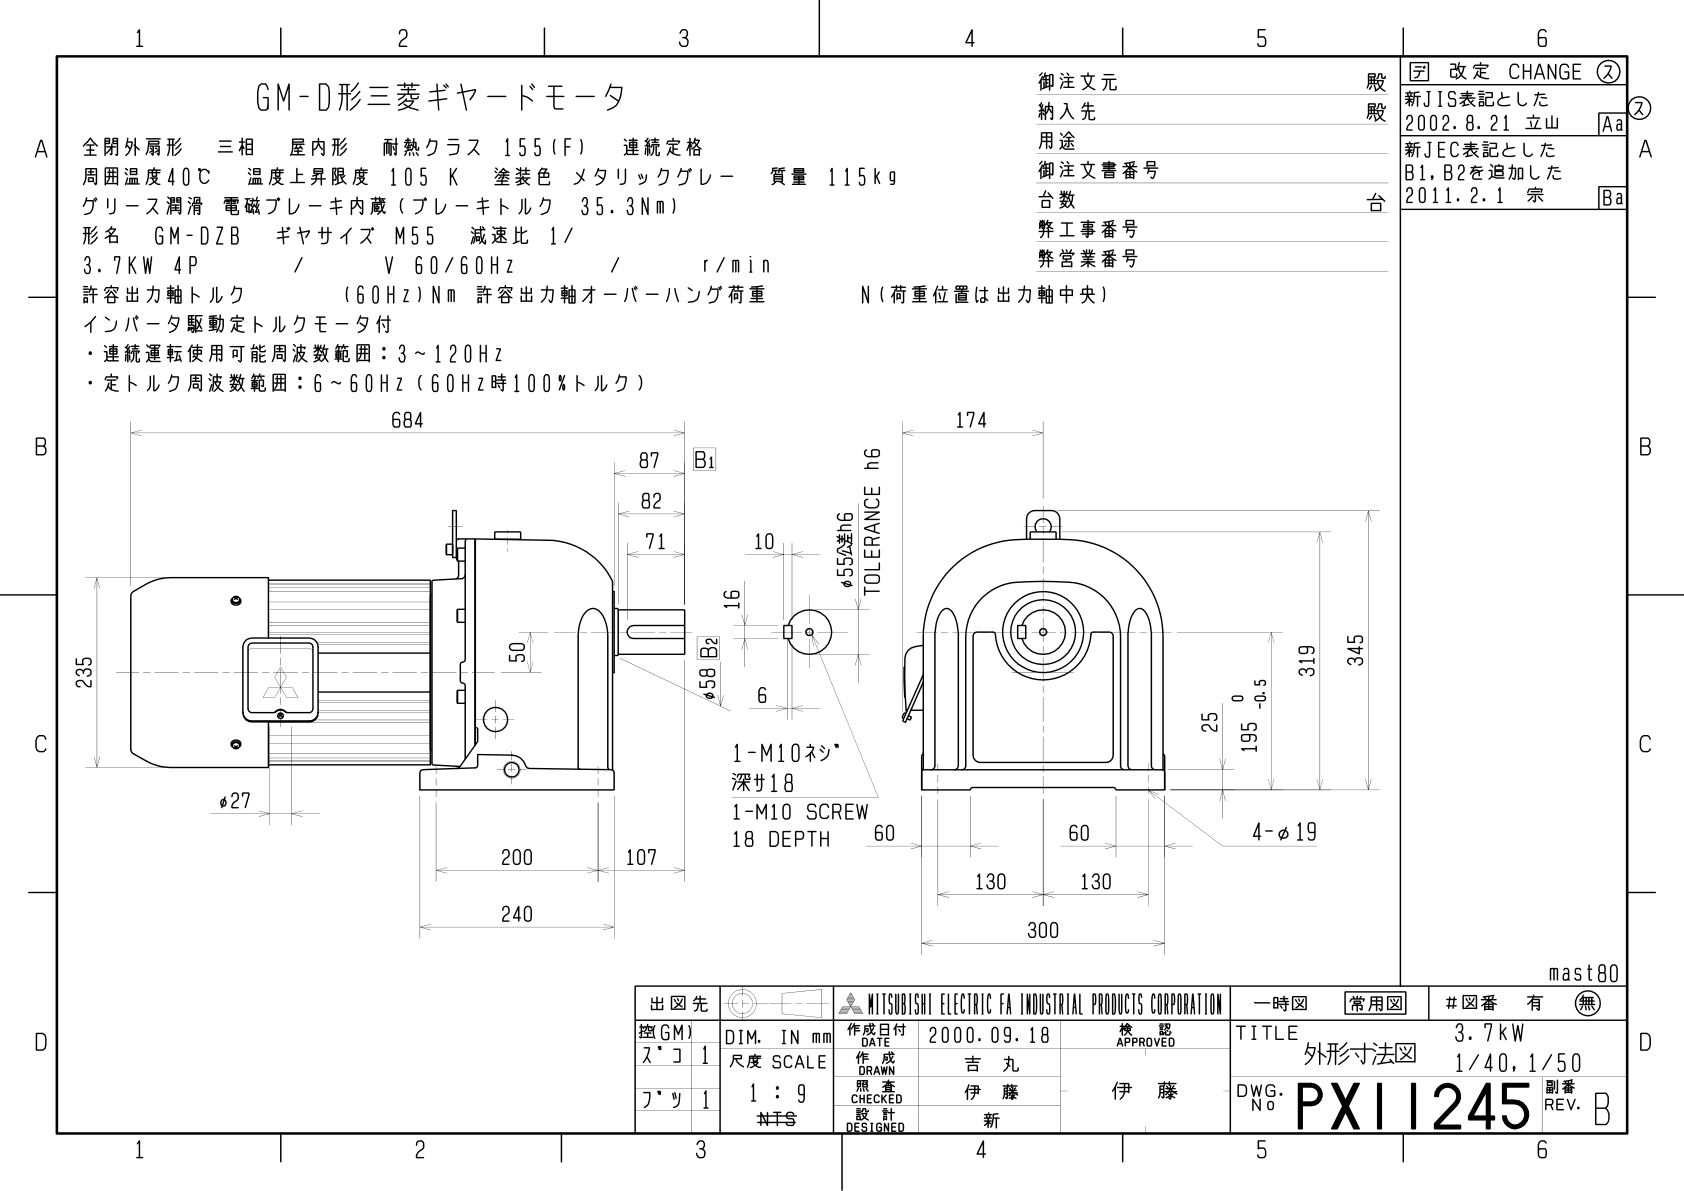GM_D_インバータ屋内_三相_脚: (63, 403, 1393, 971)
